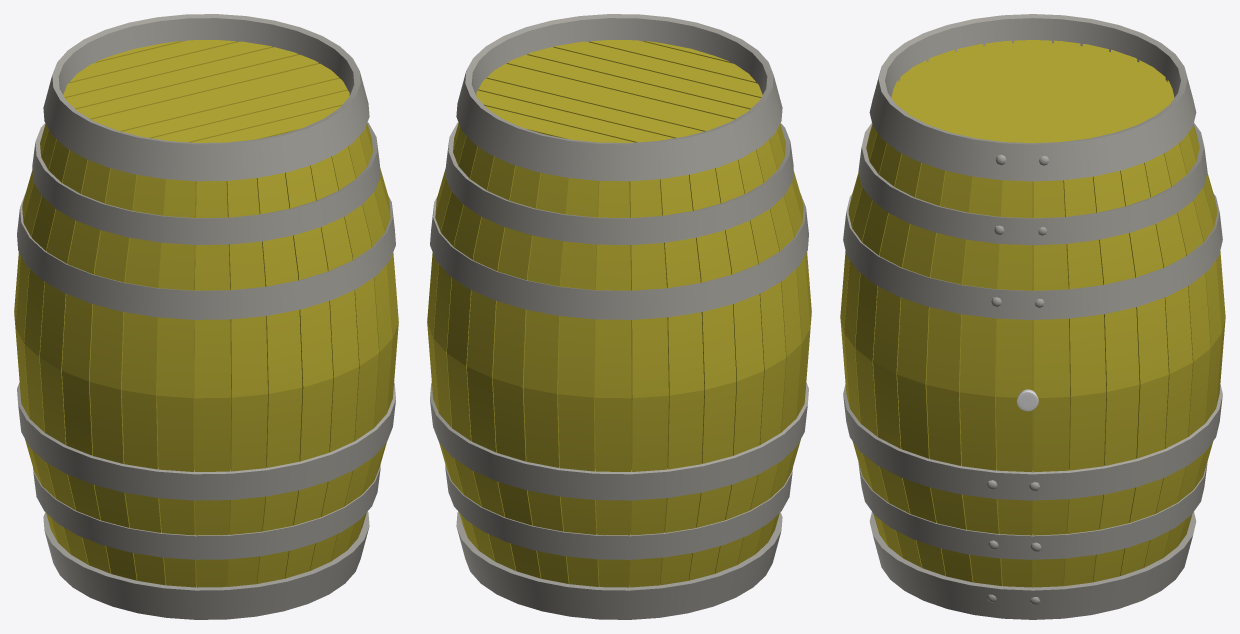
The model's file is Barrill.fbx.
The picture shows the model from 3 angles, left to right: view 1: azimuth 30°, elevation 25°; view 2: azimuth 150°, elevation 25°; view 3: azimuth 270°, elevation 25°; orthographic projection.
Parts seen in each view (by area): view 1: Cylinder.001; view 2: Cylinder.001; view 3: Cylinder.001.
Part boxes in pixels (box(x1,y1,x2,y2)): Cylinder.001: box(14, 14, 398, 619); Cylinder.001: box(427, 14, 811, 619); Cylinder.001: box(840, 14, 1225, 619).
Size of the model in its own units: 82.95 by 111 by 81.26.
